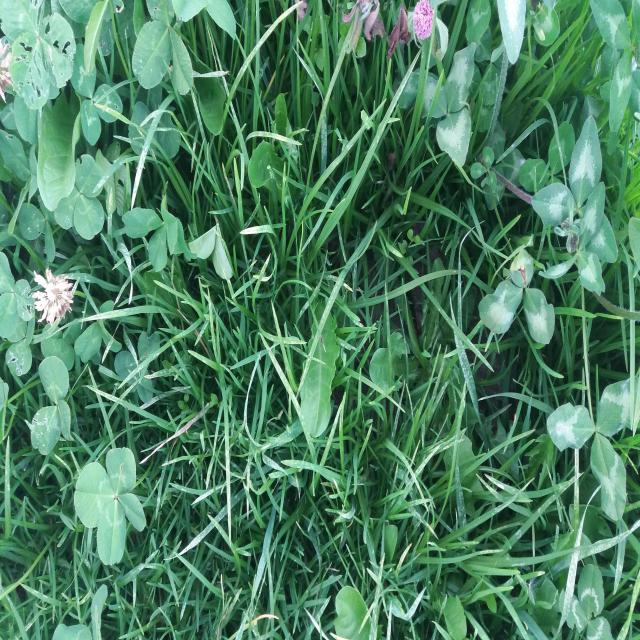Four Leaf Clover: (74, 446, 147, 566)
